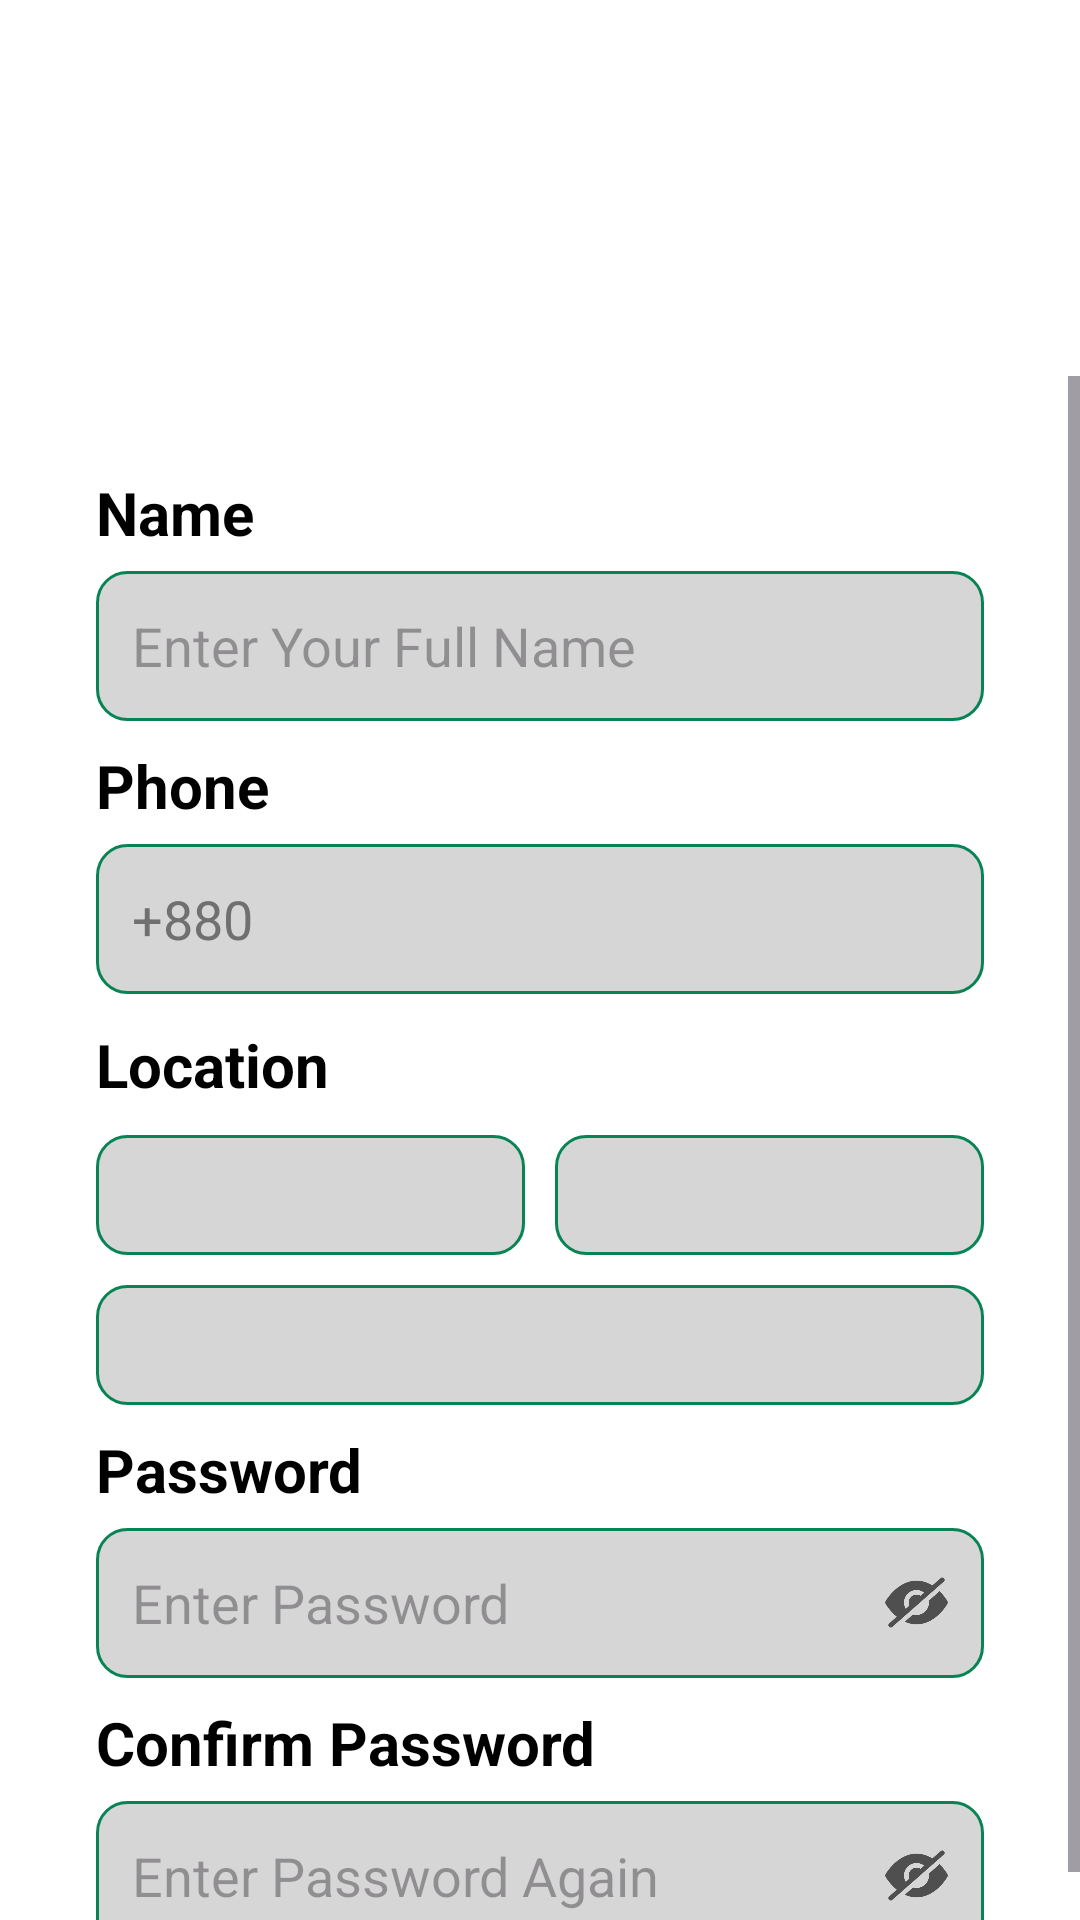

Icon click points for this 1080px×1920px phone screenshot, format (x=x, y=y):
pass hide: (x=916, y=1602), (x=916, y=1875)
